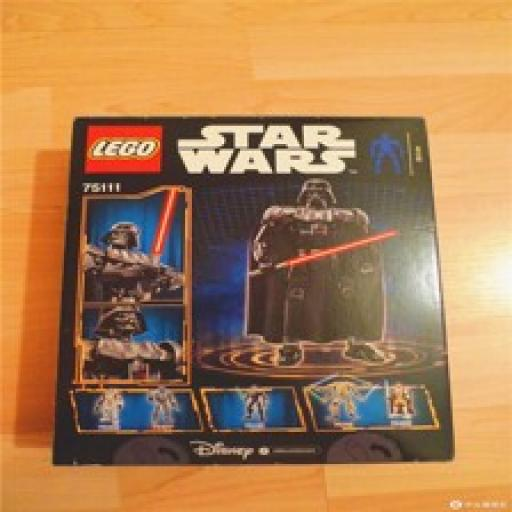sith saber: (250, 228, 402, 274), (148, 189, 180, 284)
